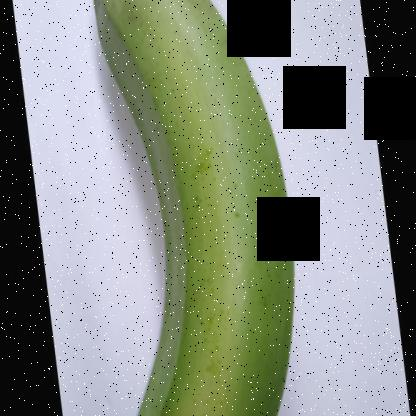freshunripe: (80, 1, 302, 415)
